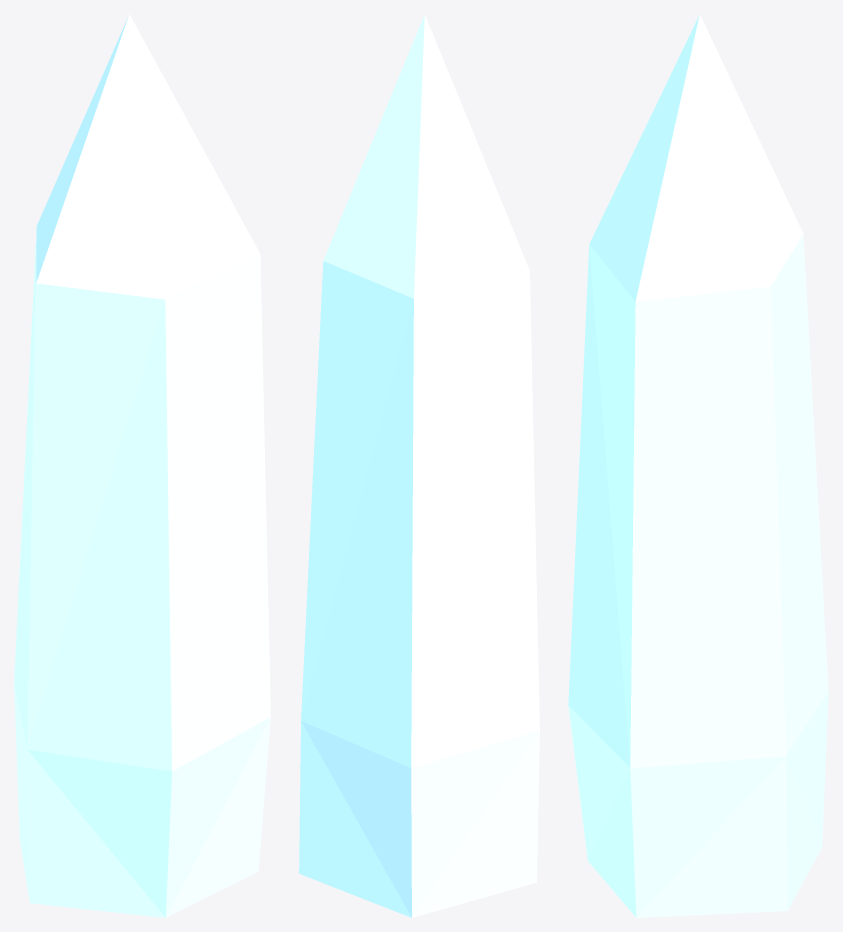
File: frost_shard.glb
3 renders of one model, left to right at view 1: azimuth 30°, elevation 25°; view 2: azimuth 150°, elevation 25°; view 3: azimuth 270°, elevation 25°, orthographic.
Parts seen in each view (by area): view 1: part.frost_shard; view 2: part.frost_shard; view 3: part.frost_shard.
Part boxes in pixels (<box>): part.frost_shard: <box>14,14,270,917</box>; part.frost_shard: <box>299,14,539,917</box>; part.frost_shard: <box>568,14,828,917</box>.
Size of the model in its own units: 0.0685 by 0.26 by 0.0716.
